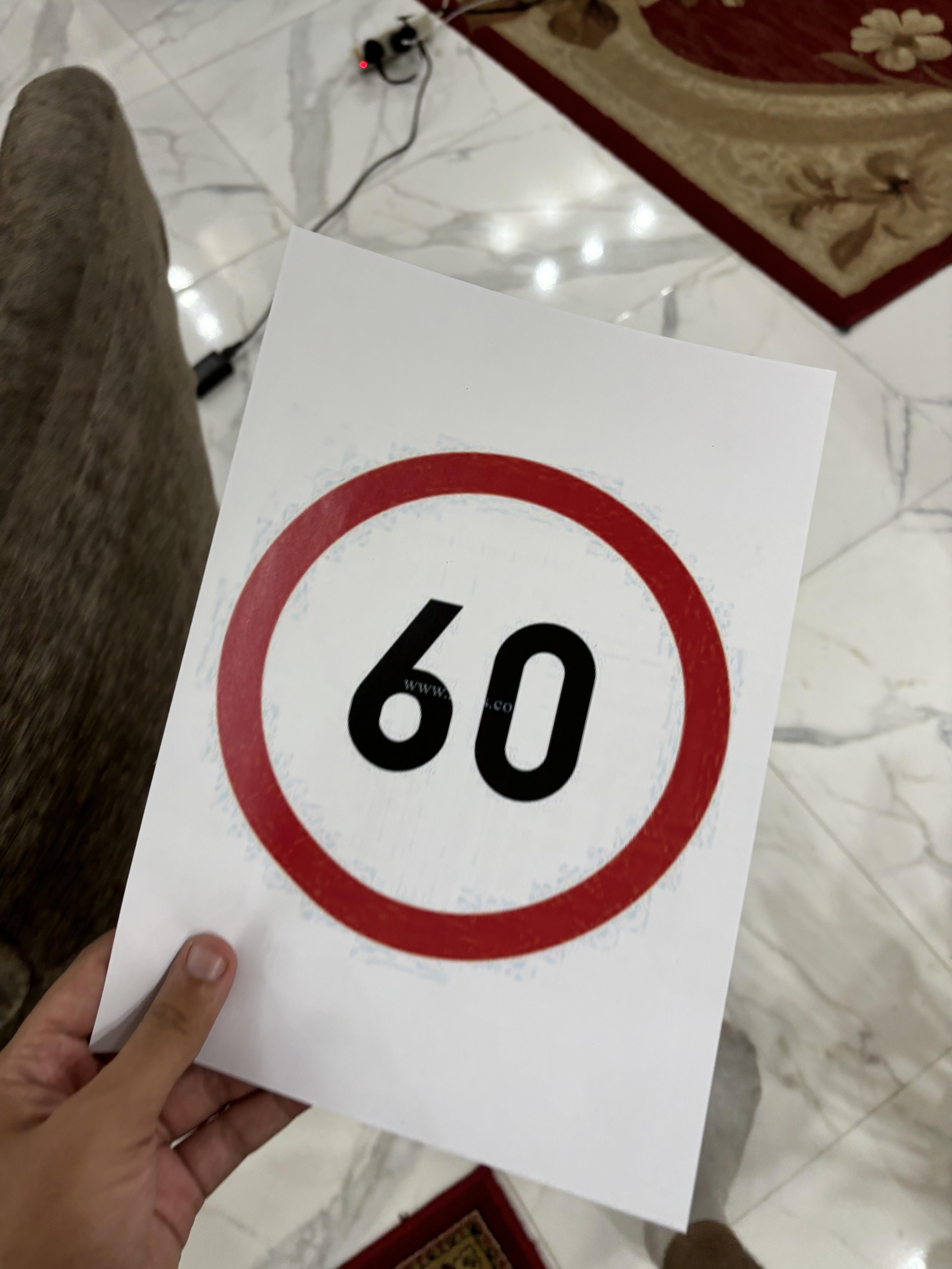60-Speed: (212, 438, 749, 965)
